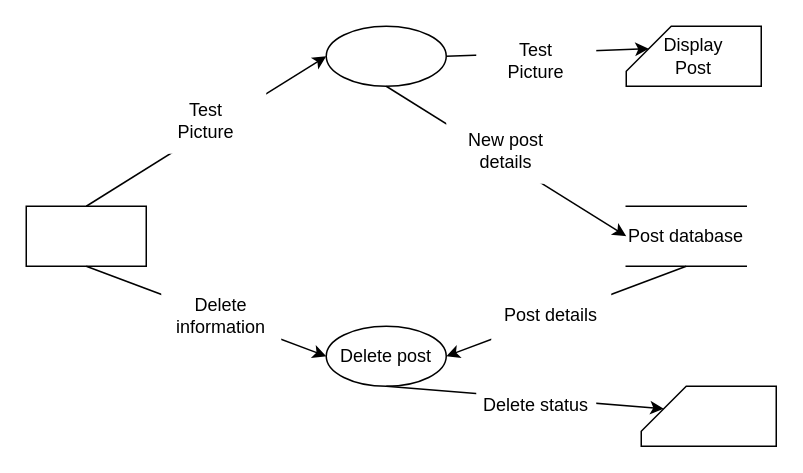
Image size: 803x473. Some labels were removed from this diagram. Here are the shapes that lost their labels. From the top down, the box of each, then its label:
(325, 25, 446, 86): New post
(25, 205, 146, 266): User input
(640, 385, 776, 446): Delete message
